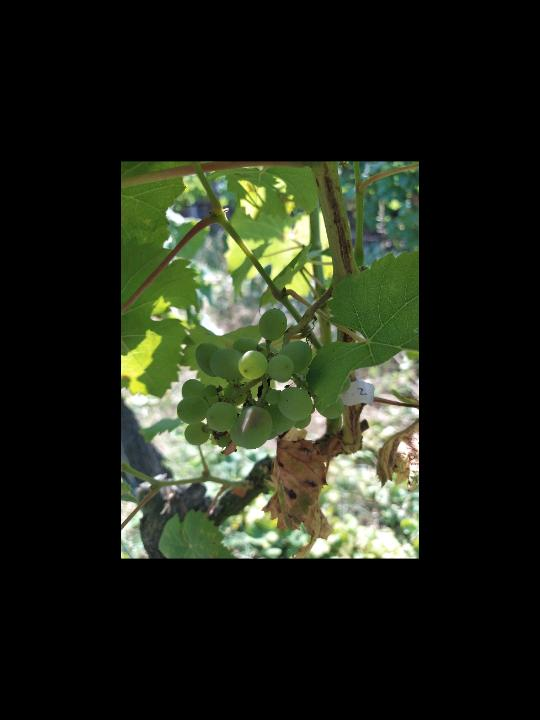grape: (176, 306, 352, 450)
